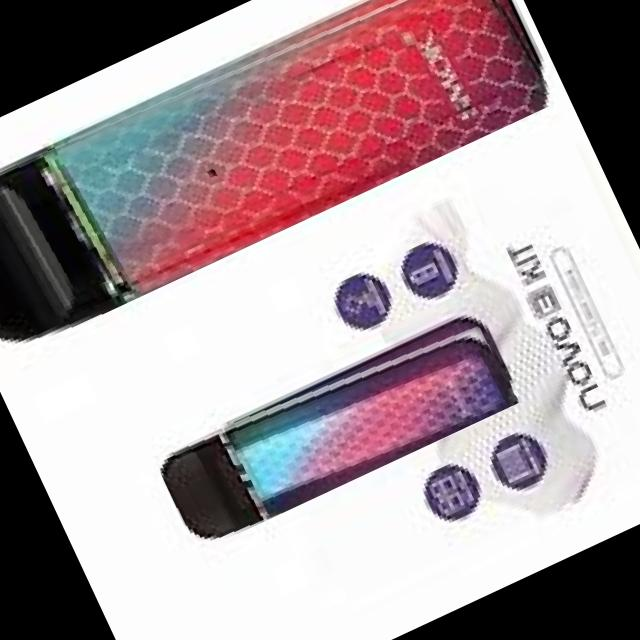Hazard: (0, 0, 558, 363), (152, 304, 520, 552)
